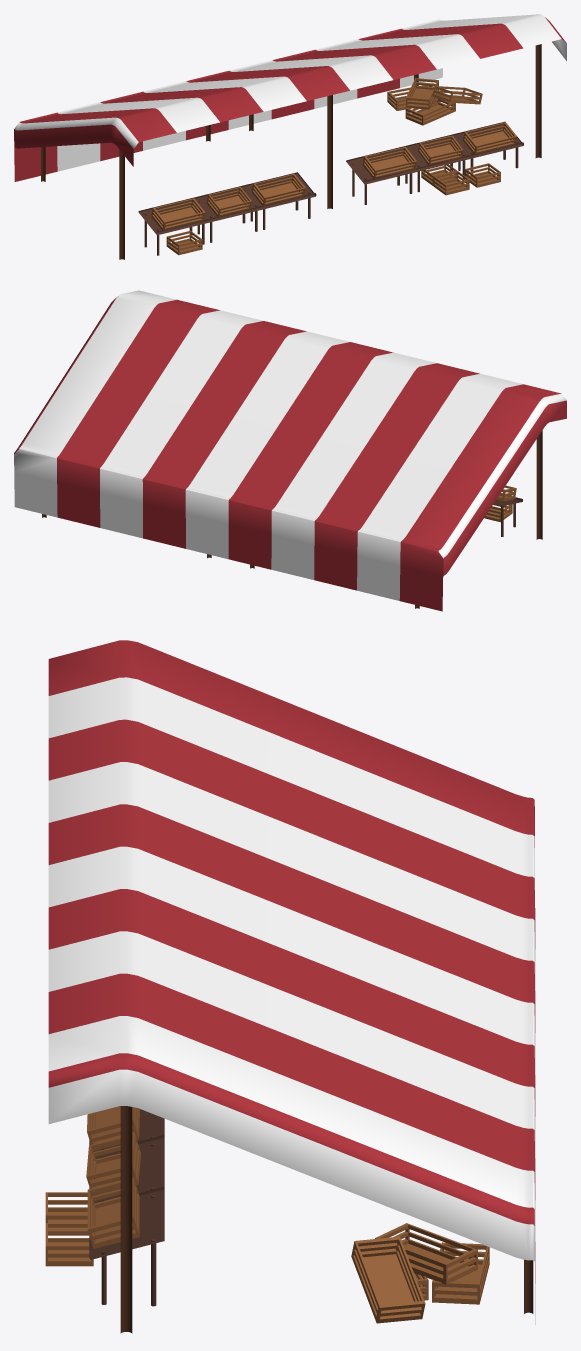
The model's file is stand_3.fbx.
3 renders of one model, top to bottom at view 1: azimuth 30°, elevation 25°; view 2: azimuth 150°, elevation 25°; view 3: azimuth 270°, elevation 25°, orthographic. The views are drawn at different scales.
Parts seen in each view (by area): view 1: StandeV2; view 2: StandeV2; view 3: StandeV2.
Part boxes in pixels (box(x1,y1,x2,y2)): StandeV2: box(14, 14, 566, 259); StandeV2: box(14, 290, 566, 611); StandeV2: box(45, 640, 535, 1333).
Bounding box in the file's own units: 2512 × 793 × 1227.
